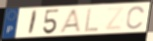5: (42, 8, 61, 35)
A: (58, 8, 83, 33)
C: (125, 5, 147, 31)
I: (27, 9, 39, 36)
L: (83, 7, 101, 33)
Z: (104, 6, 126, 32)
